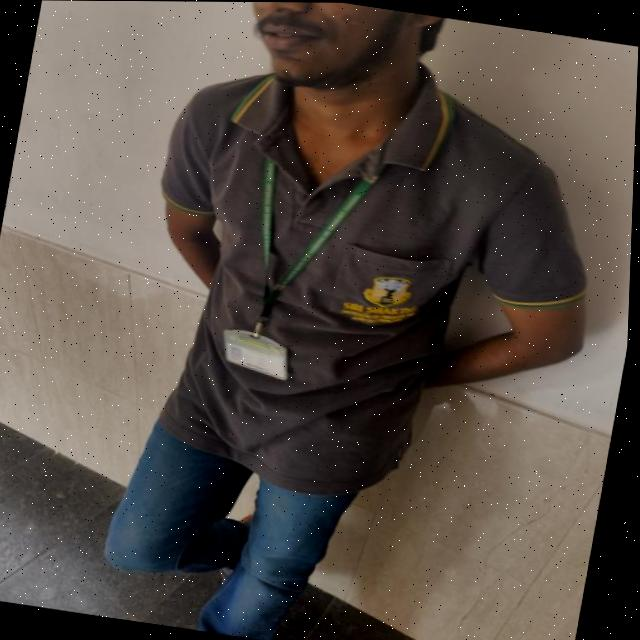id_card: (201, 116, 378, 400)
